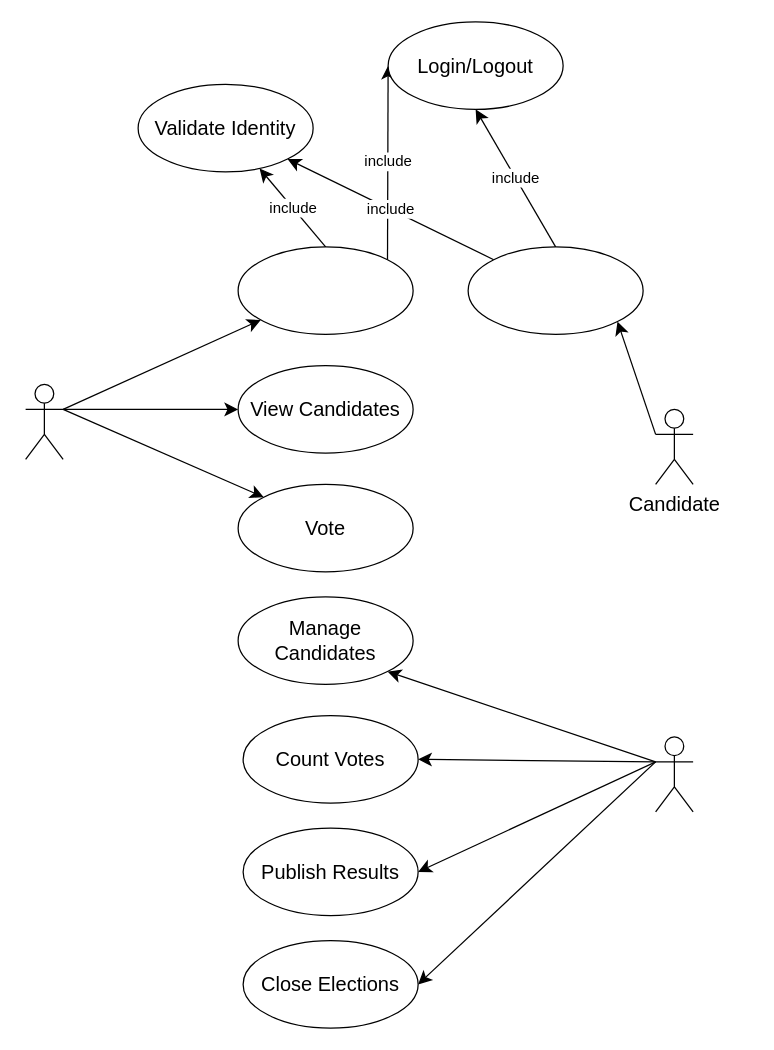
Image size: 774x1050. Some labels were removed from this diagram. Here are the shapes that lost their labels. From the top down, the box of each, then its label:
(237, 246, 413, 334): Register to vote
(467, 246, 643, 334): Register as a candidate
(24, 383, 63, 459): Voter
(654, 736, 693, 812): Election Authority
